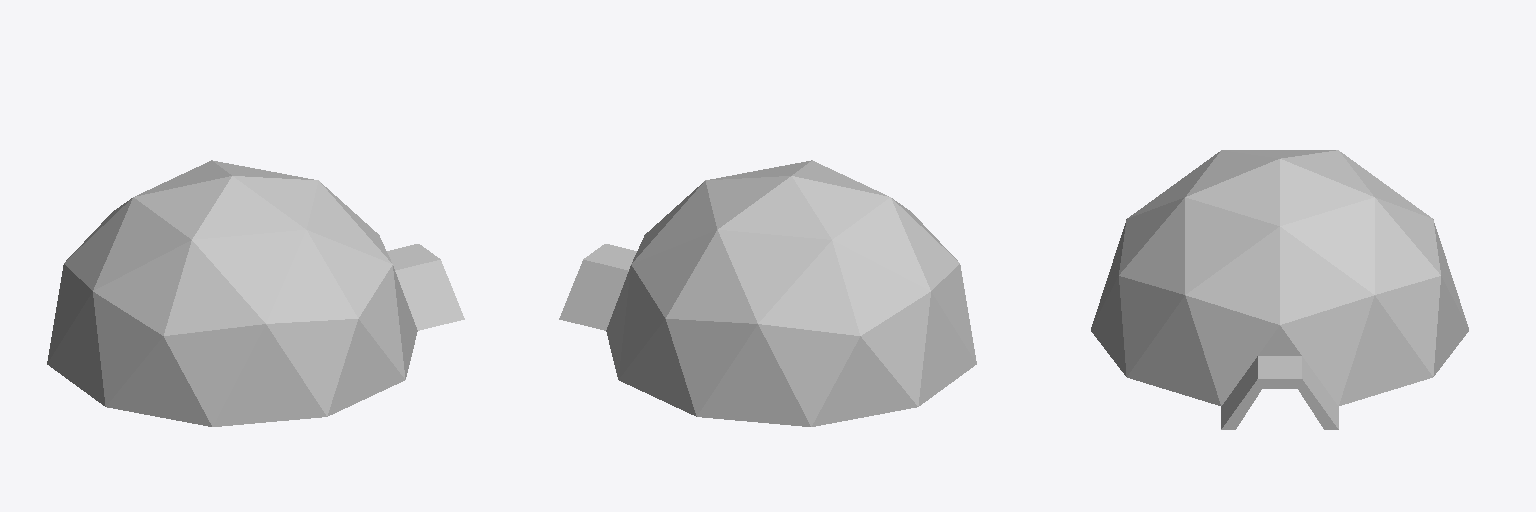
File: Igloo 2.obj
3 renders of one model, left to right at view 1: azimuth 30°, elevation 25°; view 2: azimuth 150°, elevation 25°; view 3: azimuth 270°, elevation 25°, orthographic.
Visible parts, largest first — view 1: Icosphere_Material.001; view 2: Icosphere_Material.001; view 3: Icosphere_Material.001.
Boxes of the visible parts, x1,y1,x2,y2 form: Icosphere_Material.001: [47, 160, 464, 426]; Icosphere_Material.001: [559, 160, 976, 426]; Icosphere_Material.001: [1091, 150, 1468, 429].
Bounding box in the file's own units: 5.17 × 2.36 × 4.73.